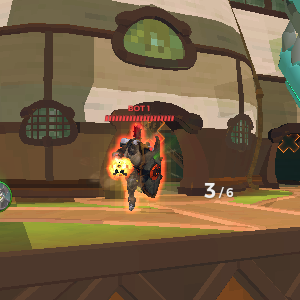model: (108, 124, 165, 217)
